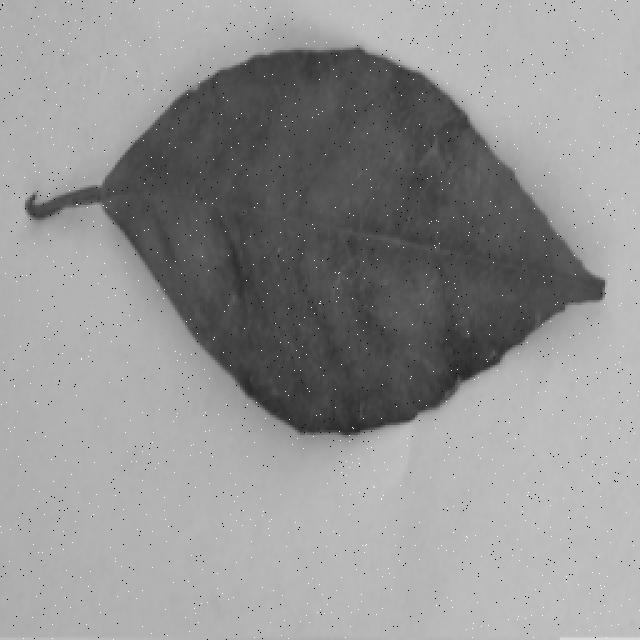healthy: (32, 42, 608, 438)
